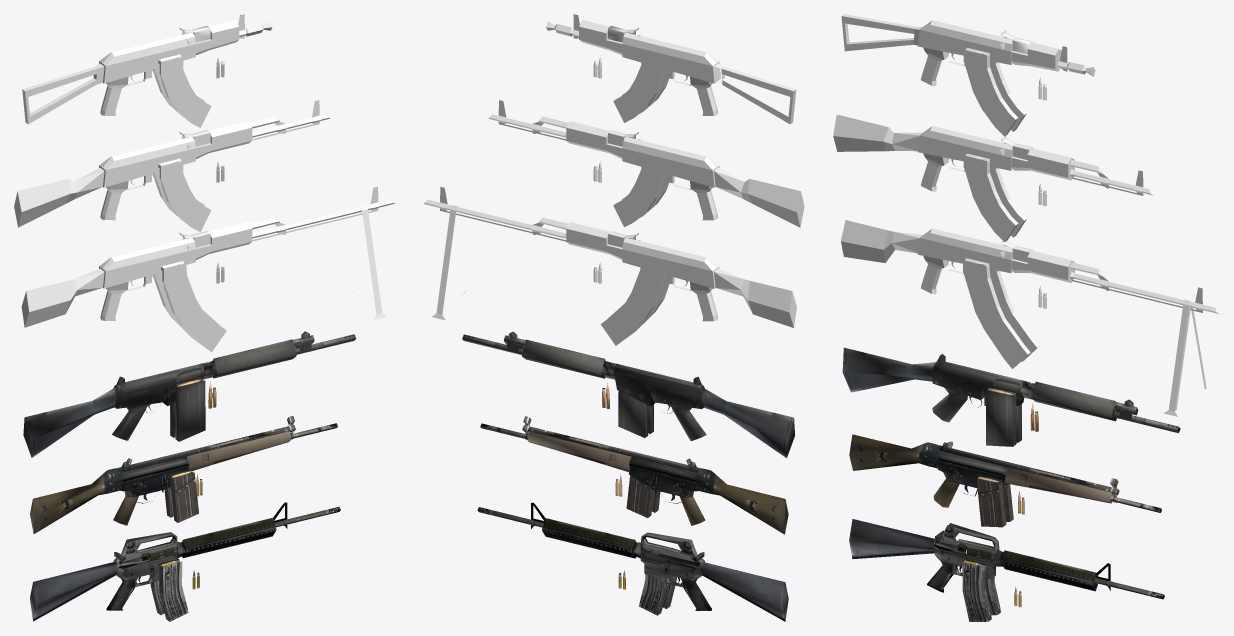
The picture shows the model from 3 angles, left to right: view 1: azimuth 30°, elevation 25°; view 2: azimuth 150°, elevation 25°; view 3: azimuth 330°, elevation 25°; orthographic projection.
Parts seen in each view (by area): view 1: RPK, FAL, AKM, M16, G3, AK74U, RPK_Mag_Full, AK74U_Mag_Full, AKM_Mag_Full, FAL_Magazene.Full, M16_Mag_Full, G3Magazene_Full; view 2: RPK, FAL, AKM, M16, G3, AK74U, RPK_Mag_Empty, AKM_Mag_Empty, AK74U_Mag_Empty, FAL_Magazene, G3Magazene, M16_Mag; view 3: RPK, FAL, AKM, M16, G3, AK74U, RPK_Mag_Full, AKM_Mag_Full, AK74U_Mag_Full, FAL_Magazene.Full, M16_Mag_Full, G3Magazene_Full (+3 smaller).
Boxes of the visible parts, x1=… form: RPK: x1=21, y1=186, x2=394, y2=327; FAL: x1=23, y1=331, x2=356, y2=457; AKM: x1=14, y1=100, x2=329, y2=227; M16: x1=30, y1=502, x2=340, y2=621; G3: x1=30, y1=416, x2=337, y2=533; AK74U: x1=22, y1=14, x2=272, y2=124; RPK_Mag_Full: x1=160, y1=261, x2=226, y2=352; AK74U_Mag_Full: x1=157, y1=54, x2=211, y2=127; AKM_Mag_Full: x1=157, y1=158, x2=211, y2=231; FAL_Magazene.Full: x1=175, y1=378, x2=205, y2=441; M16_Mag_Full: x1=159, y1=558, x2=188, y2=621; G3Magazene_Full: x1=169, y1=469, x2=198, y2=522; RPK: x1=423, y1=187, x2=796, y2=327; FAL: x1=462, y1=331, x2=795, y2=458; AKM: x1=488, y1=100, x2=804, y2=227; M16: x1=477, y1=502, x2=788, y2=621; G3: x1=480, y1=416, x2=788, y2=534; AK74U: x1=546, y1=14, x2=796, y2=124; RPK_Mag_Empty: x1=600, y1=267, x2=665, y2=345; AKM_Mag_Empty: x1=613, y1=167, x2=665, y2=227; AK74U_Mag_Empty: x1=613, y1=62, x2=665, y2=122; FAL_Magazene: x1=618, y1=391, x2=648, y2=437; G3Magazene: x1=626, y1=475, x2=653, y2=517; M16_Mag: x1=639, y1=574, x2=667, y2=615; RPK: x1=841, y1=220, x2=1219, y2=416; FAL: x1=842, y1=347, x2=1180, y2=433; AKM: x1=833, y1=114, x2=1153, y2=195; M16: x1=849, y1=519, x2=1164, y2=599; G3: x1=849, y1=434, x2=1161, y2=512; AK74U: x1=841, y1=14, x2=1095, y2=85; RPK_Mag_Full: x1=963, y1=258, x2=1030, y2=368; AKM_Mag_Full: x1=963, y1=153, x2=1018, y2=242; AK74U_Mag_Full: x1=963, y1=48, x2=1018, y2=136; FAL_Magazene.Full: x1=986, y1=387, x2=1016, y2=446; M16_Mag_Full: x1=962, y1=559, x2=991, y2=621; G3Magazene_Full: x1=976, y1=475, x2=1006, y2=527.
Bounding box in the file's own units: 5.41 × 7.94 × 0.8238.
Materials: 18 (11 with a texture image).
